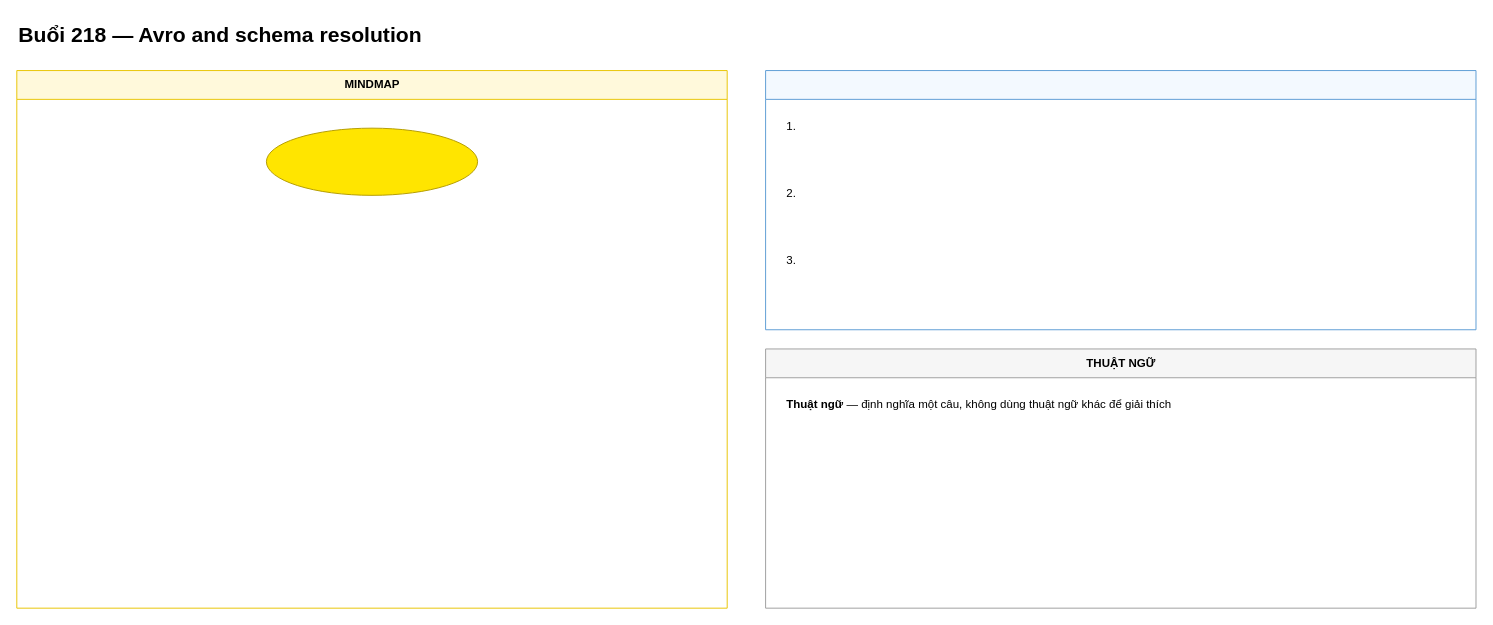
This 1493x625 diagram has some shape labels left out. The box of each missing label's shape, as (x1, y1, x2, y2) in pixels:
Avro and schema resolution: (265, 127, 478, 195)
KEY TAKEAWAY — ba điều phải nhớ: (765, 70, 1476, 330)
